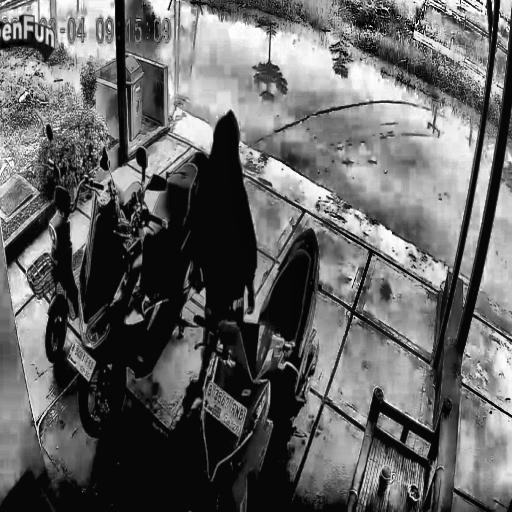siaga: (132, 1, 512, 511)
